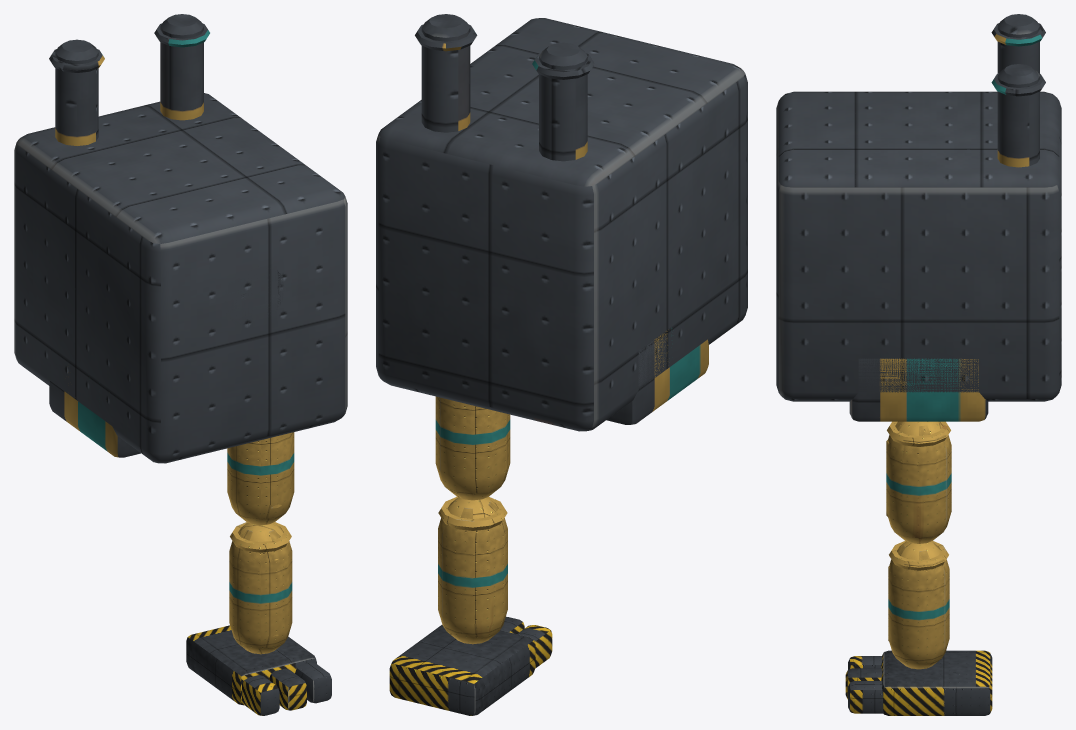
The model's file is titan_chassis.fbx.
The picture shows the model from 3 angles, left to right: view 1: azimuth 30°, elevation 25°; view 2: azimuth 150°, elevation 25°; view 3: azimuth 270°, elevation 25°; orthographic projection. The views are drawn at different scales.
Visible parts, largest first — view 1: Titan_Torso, Titan_Foot, Titan_Leg_Lower, Titan_Leg_Upper; view 2: Titan_Torso, Titan_Foot, Titan_Leg_Lower, Titan_Leg_Upper; view 3: Titan_Torso, Titan_Foot, Titan_Leg_Upper, Titan_Leg_Lower.
Part boxes in pixels (box(x1,y1,x2,y2)): Titan_Torso: box(14, 14, 347, 463); Titan_Foot: box(186, 625, 331, 715); Titan_Leg_Lower: box(229, 522, 292, 654); Titan_Leg_Upper: box(227, 432, 294, 525); Titan_Torso: box(376, 14, 747, 431); Titan_Foot: box(389, 616, 552, 715); Titan_Leg_Lower: box(438, 496, 507, 644); Titan_Leg_Upper: box(435, 396, 510, 500); Titan_Torso: box(776, 14, 1061, 421); Titan_Foot: box(845, 650, 992, 715); Titan_Leg_Upper: box(886, 421, 951, 543); Titan_Leg_Lower: box(888, 541, 949, 669).
Size of the model in its own units: 605 by 1670 by 700.
